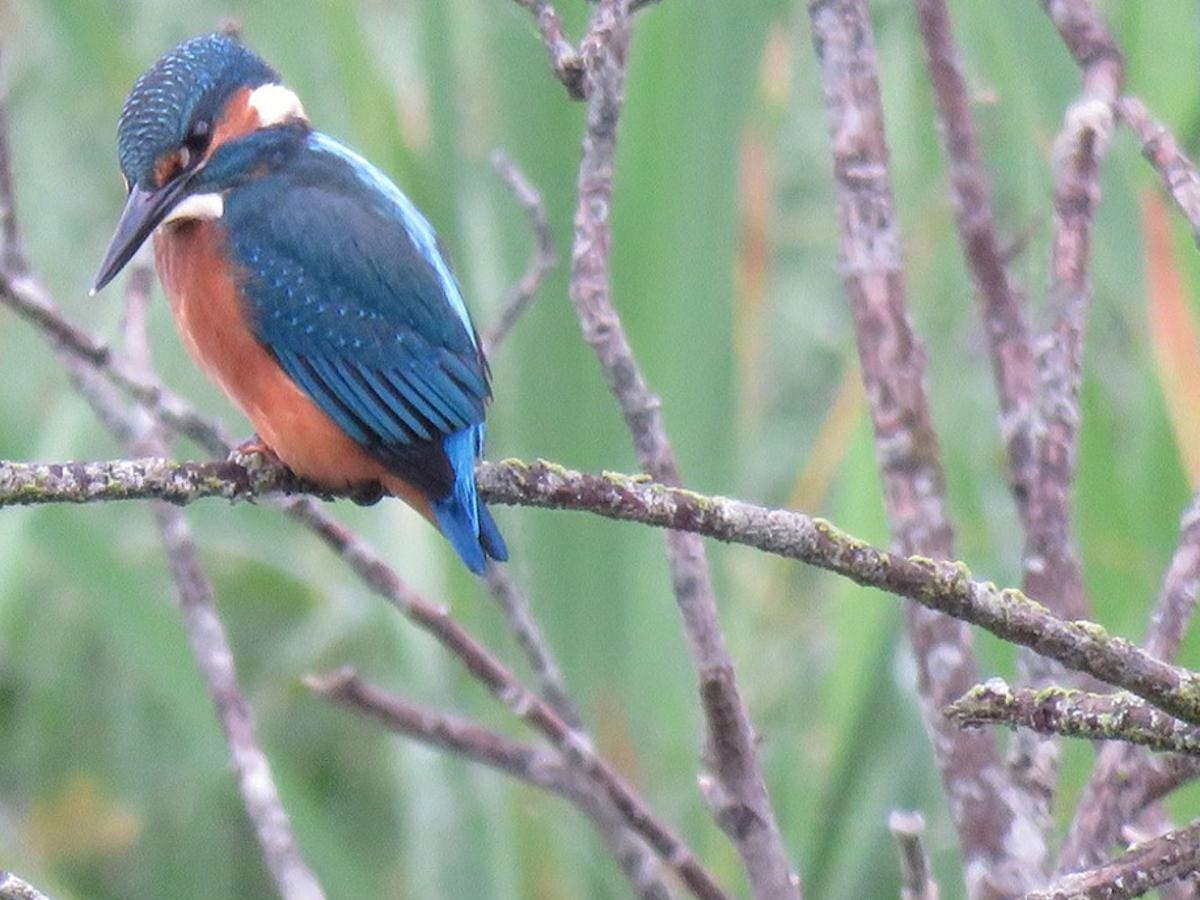kingfisher: (99, 45, 505, 555)
